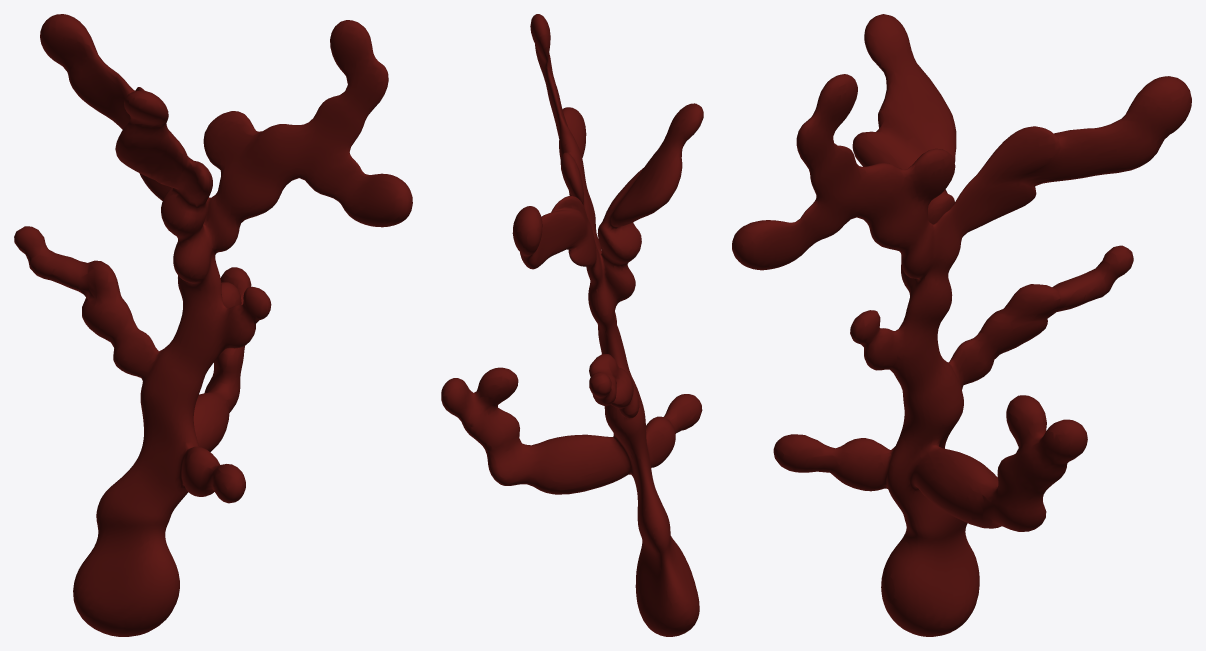
Rendered from Coral.fbx.
The picture shows the model from 3 angles, left to right: view 1: azimuth 30°, elevation 25°; view 2: azimuth 150°, elevation 25°; view 3: azimuth 270°, elevation 25°; orthographic projection. The views are drawn at different scales.
Visible parts, largest first — view 1: Coral; view 2: Coral; view 3: Coral.
Part boxes in pixels (x1,y1,x2,y2): Coral: (14, 14, 412, 636); Coral: (441, 14, 703, 636); Coral: (732, 14, 1191, 636).
Size of the model in its own units: 230 by 546 by 347.
